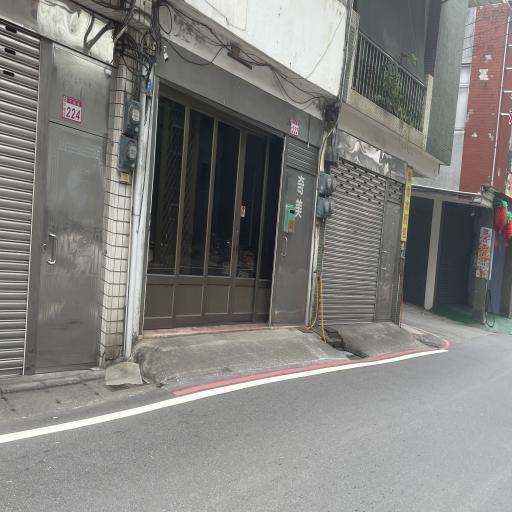redline: (173, 312, 453, 399)
whiteline: (0, 389, 171, 450)
